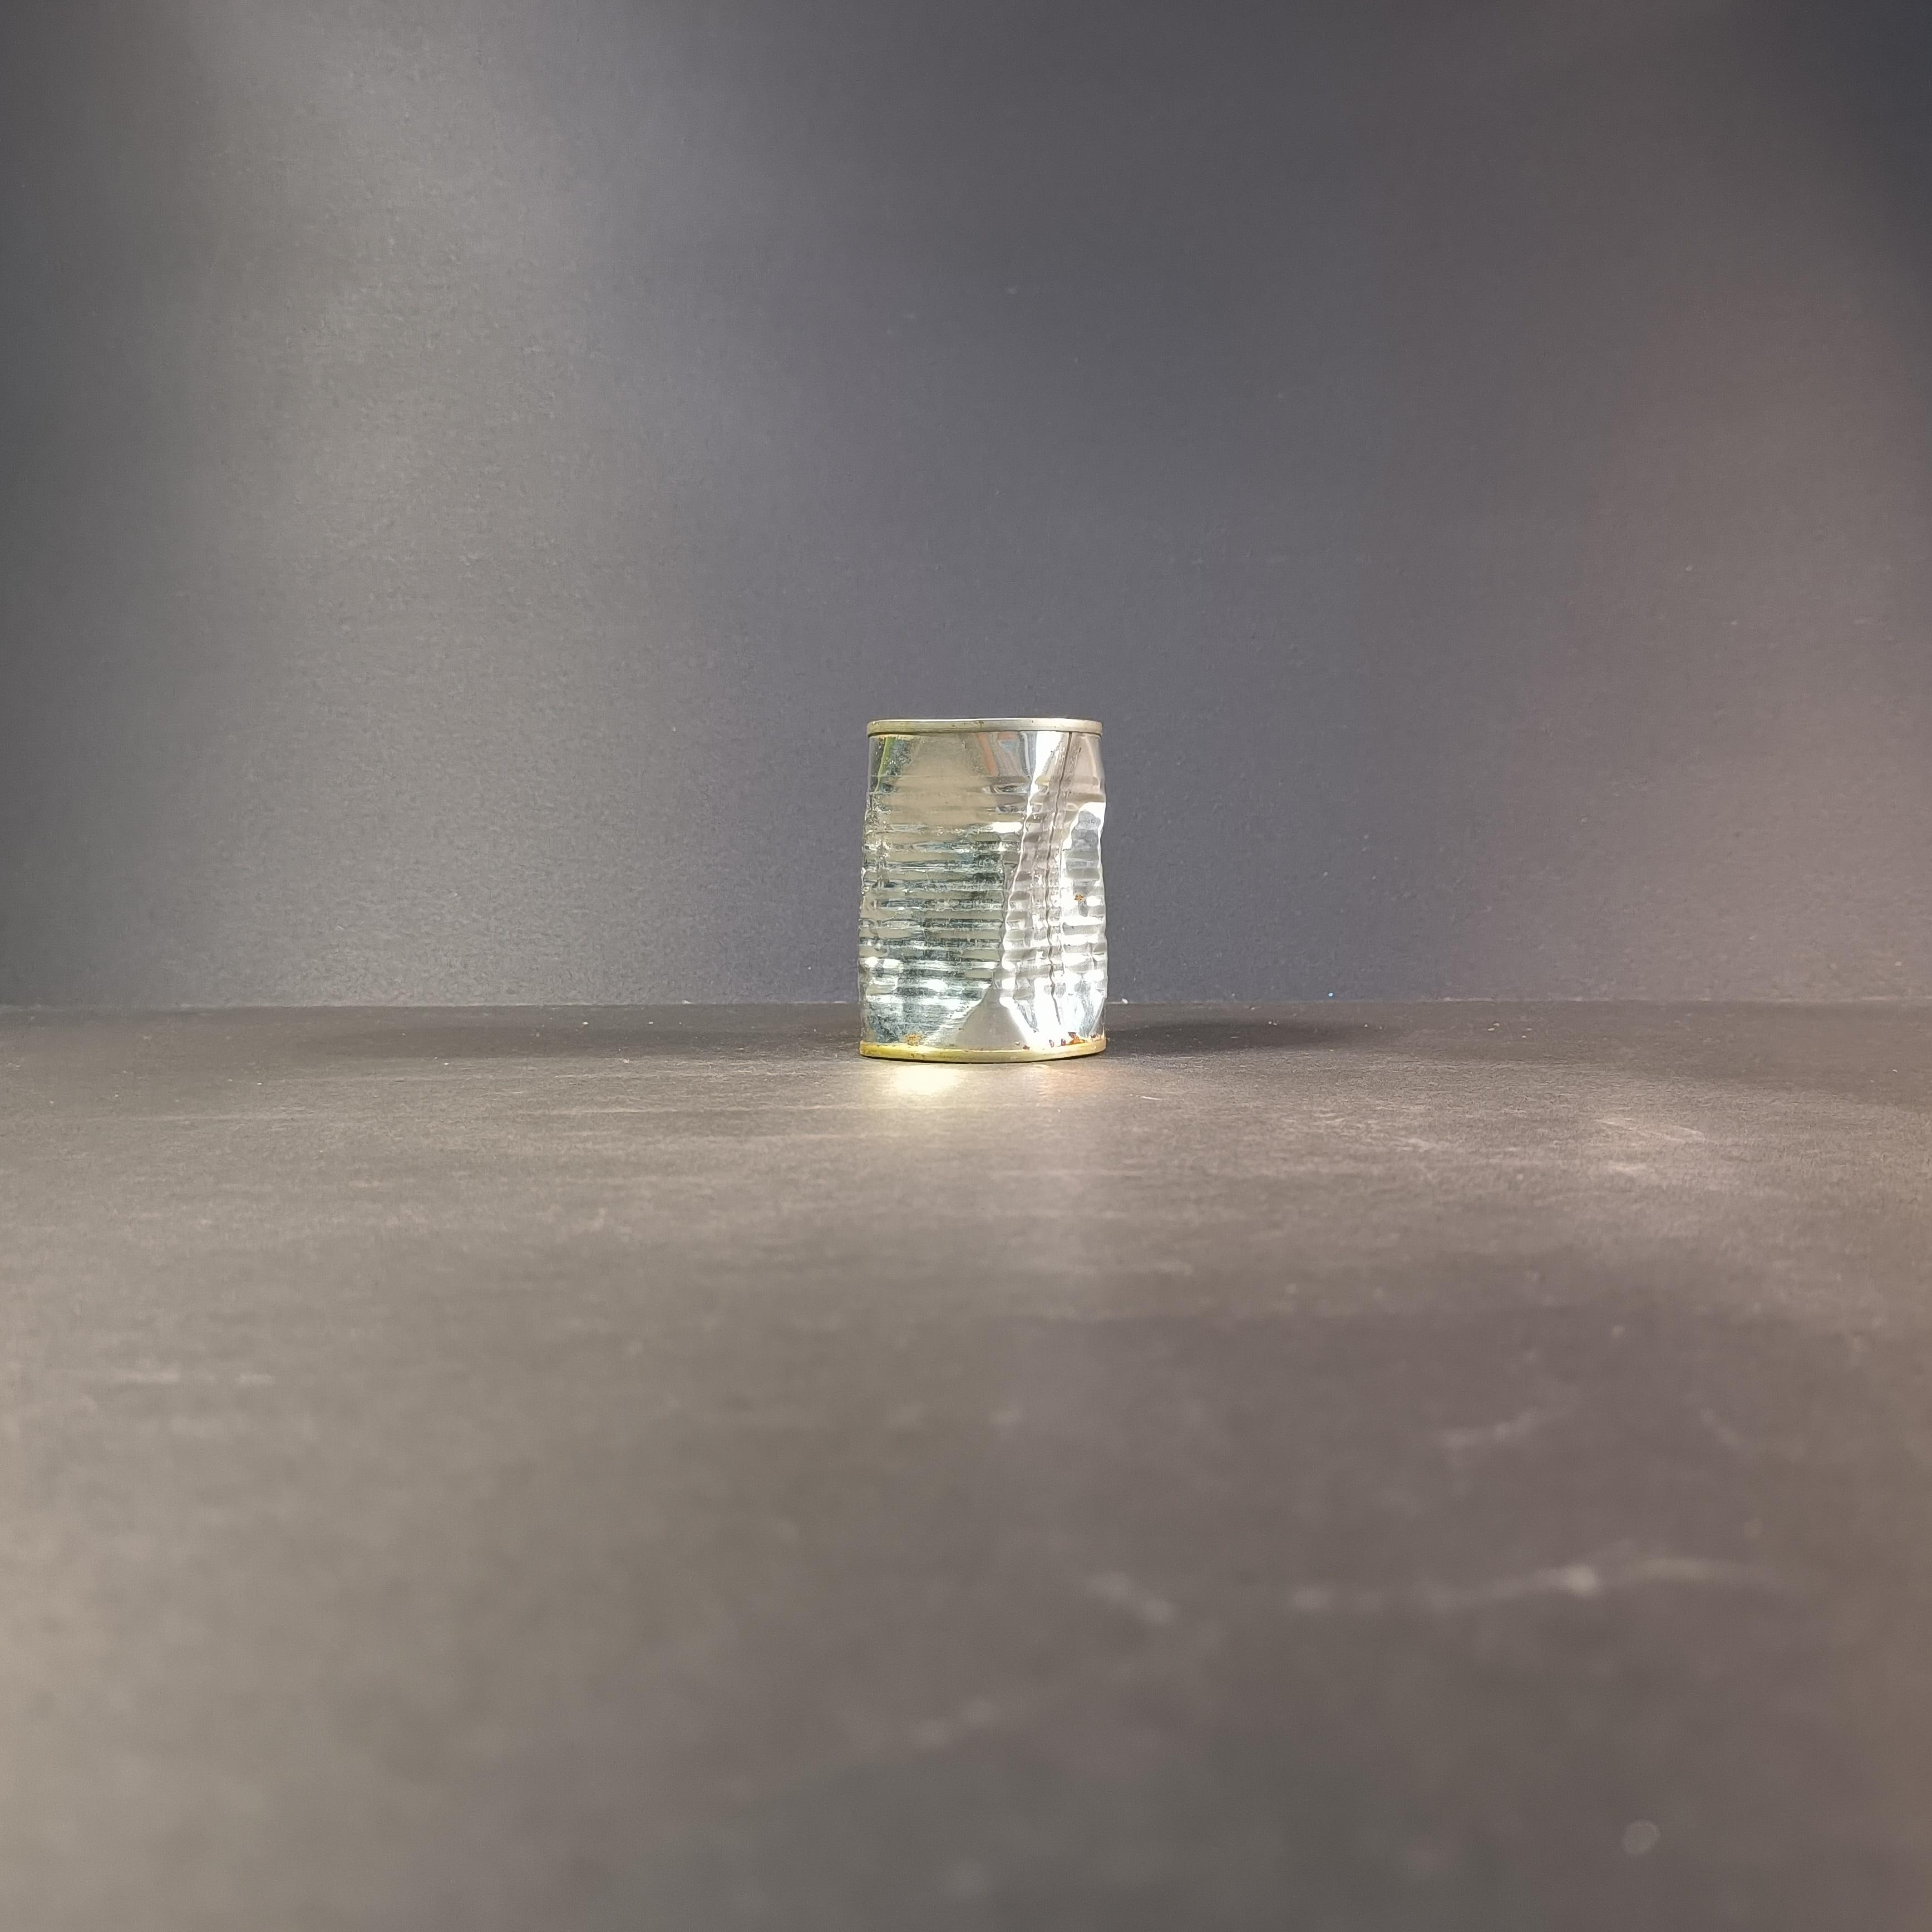Dented: (830, 695, 1141, 1088)
